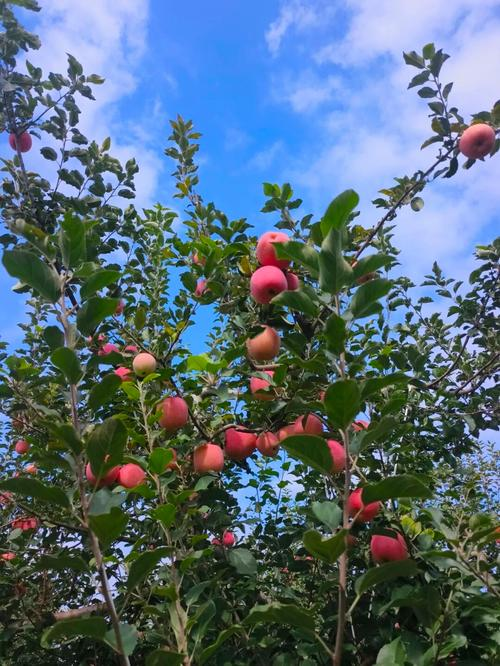ripe: (450, 119, 500, 163), (367, 525, 411, 569), (214, 421, 257, 464), (240, 316, 280, 362), (253, 228, 294, 268), (243, 262, 284, 301), (148, 391, 187, 432), (345, 483, 381, 525), (190, 438, 226, 479), (3, 126, 42, 160)
